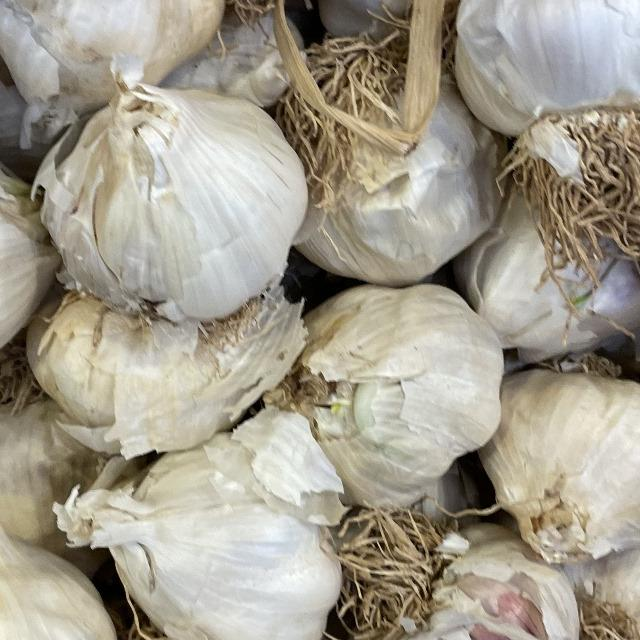garlic: (40, 58, 320, 318), (447, 0, 640, 257)
